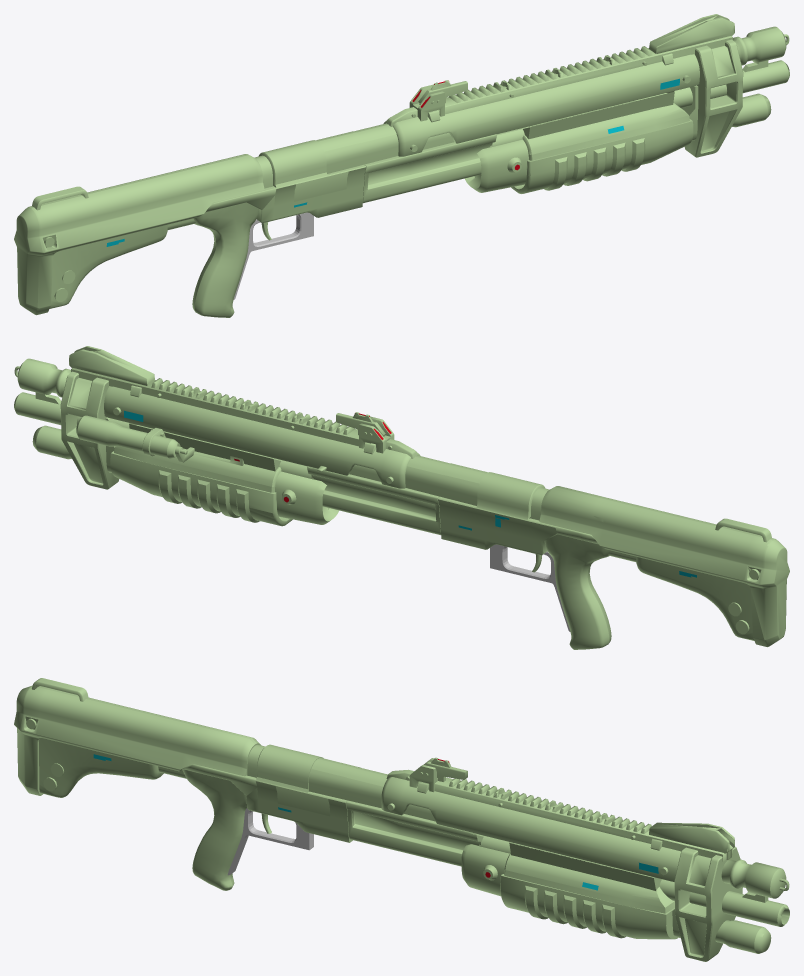
The model's file is M45_Rigged_3rdP.fbx.
3 renders of one model, top to bottom at view 1: azimuth 30°, elevation 25°; view 2: azimuth 150°, elevation 25°; view 3: azimuth 330°, elevation 25°, orthographic.
Parts seen in each view (by area): view 1: MainBody, Pump, TriggerGuard; view 2: MainBody, Pump, TriggerGuard; view 3: MainBody, Pump, TriggerGuard.
Part boxes in pixels (bbox=[...]): MainBody: bbox=[14, 14, 789, 317]; Pump: bbox=[464, 91, 693, 193]; TriggerGuard: bbox=[233, 212, 313, 299]; MainBody: bbox=[14, 346, 789, 649]; Pump: bbox=[76, 415, 339, 526]; TriggerGuard: bbox=[490, 544, 570, 631]; MainBody: bbox=[14, 678, 789, 961]; Pump: bbox=[461, 842, 677, 939]; TriggerGuard: bbox=[227, 808, 313, 875].
Size of the model in its own units: 93.61 by 21.24 by 9.6.
